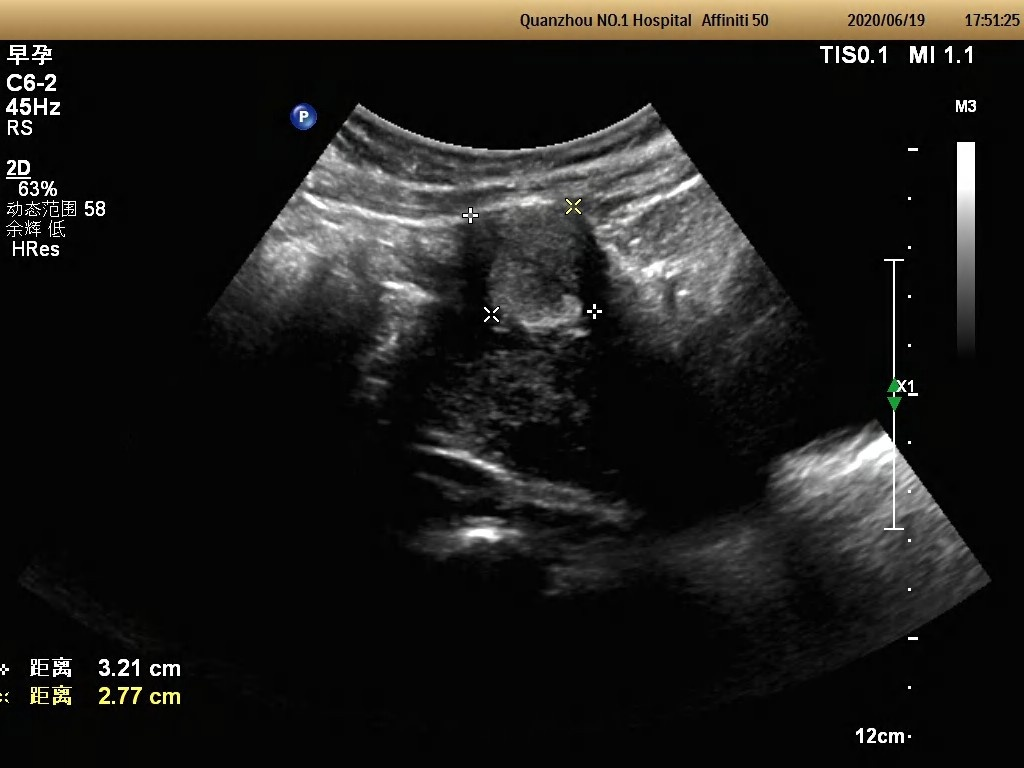肌瘤: (467, 202, 593, 331)
